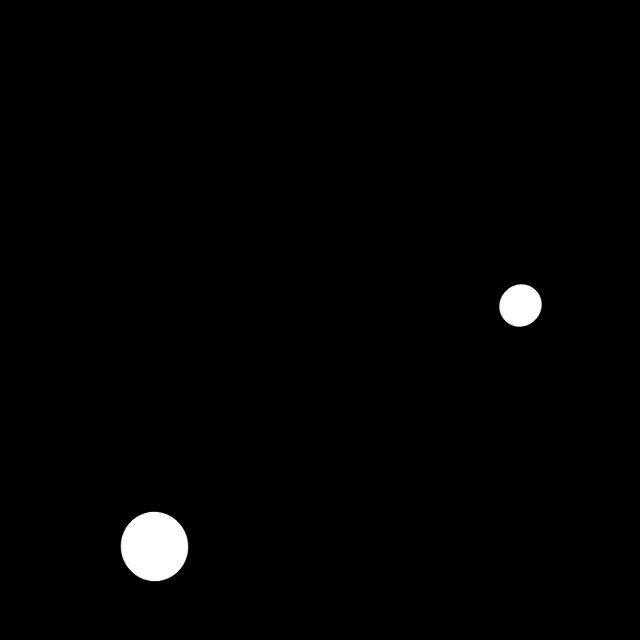Circle: (114, 500, 197, 587), (494, 276, 546, 334)
